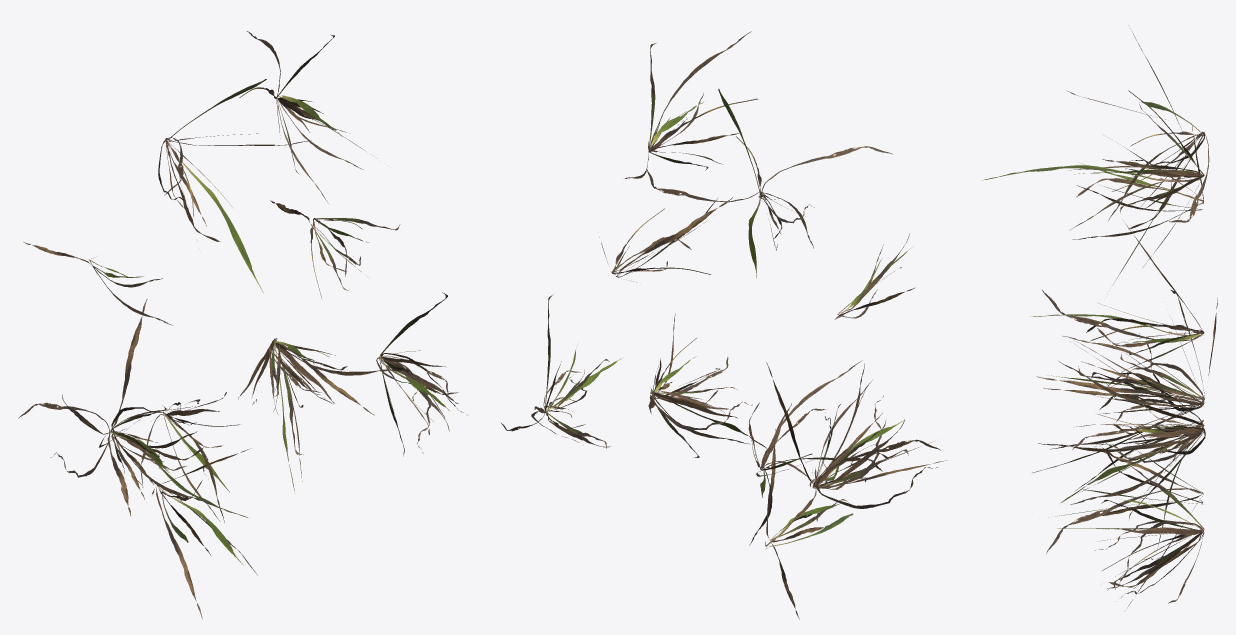
Rendered from Grass_03_Var3_LOD2.fbx.
The picture shows the model from 3 angles, left to right: view 1: azimuth 30°, elevation 25°; view 2: azimuth 150°, elevation 25°; view 3: azimuth 270°, elevation 25°; orthographic projection. The views are drawn at different scales.
Parts seen in each view (by area): view 1: Var3_LOD2; view 2: Var3_LOD2; view 3: Var3_LOD2.
Part boxes in pixels (<box>): Var3_LOD2: <box>18,31,467,619</box>; Var3_LOD2: <box>501,31,946,619</box>; Var3_LOD2: <box>982,25,1217,610</box>.
Bounding box in the file's own units: 60.38 × 76.46 × 26.87.
